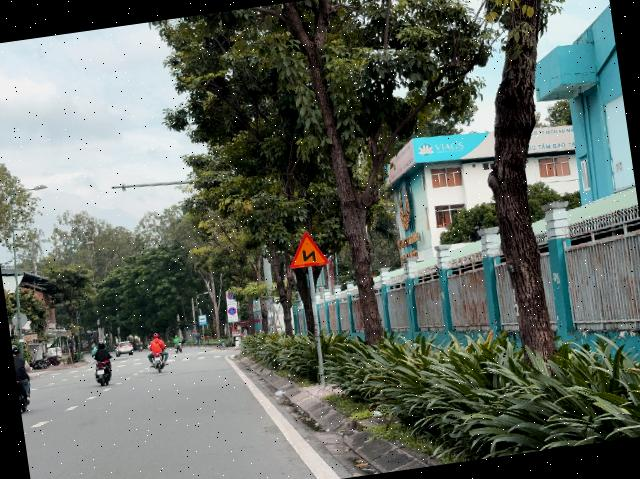nhieu-cho-ngoat-nguy-hiem-lien-tiep: (285, 229, 329, 270)
